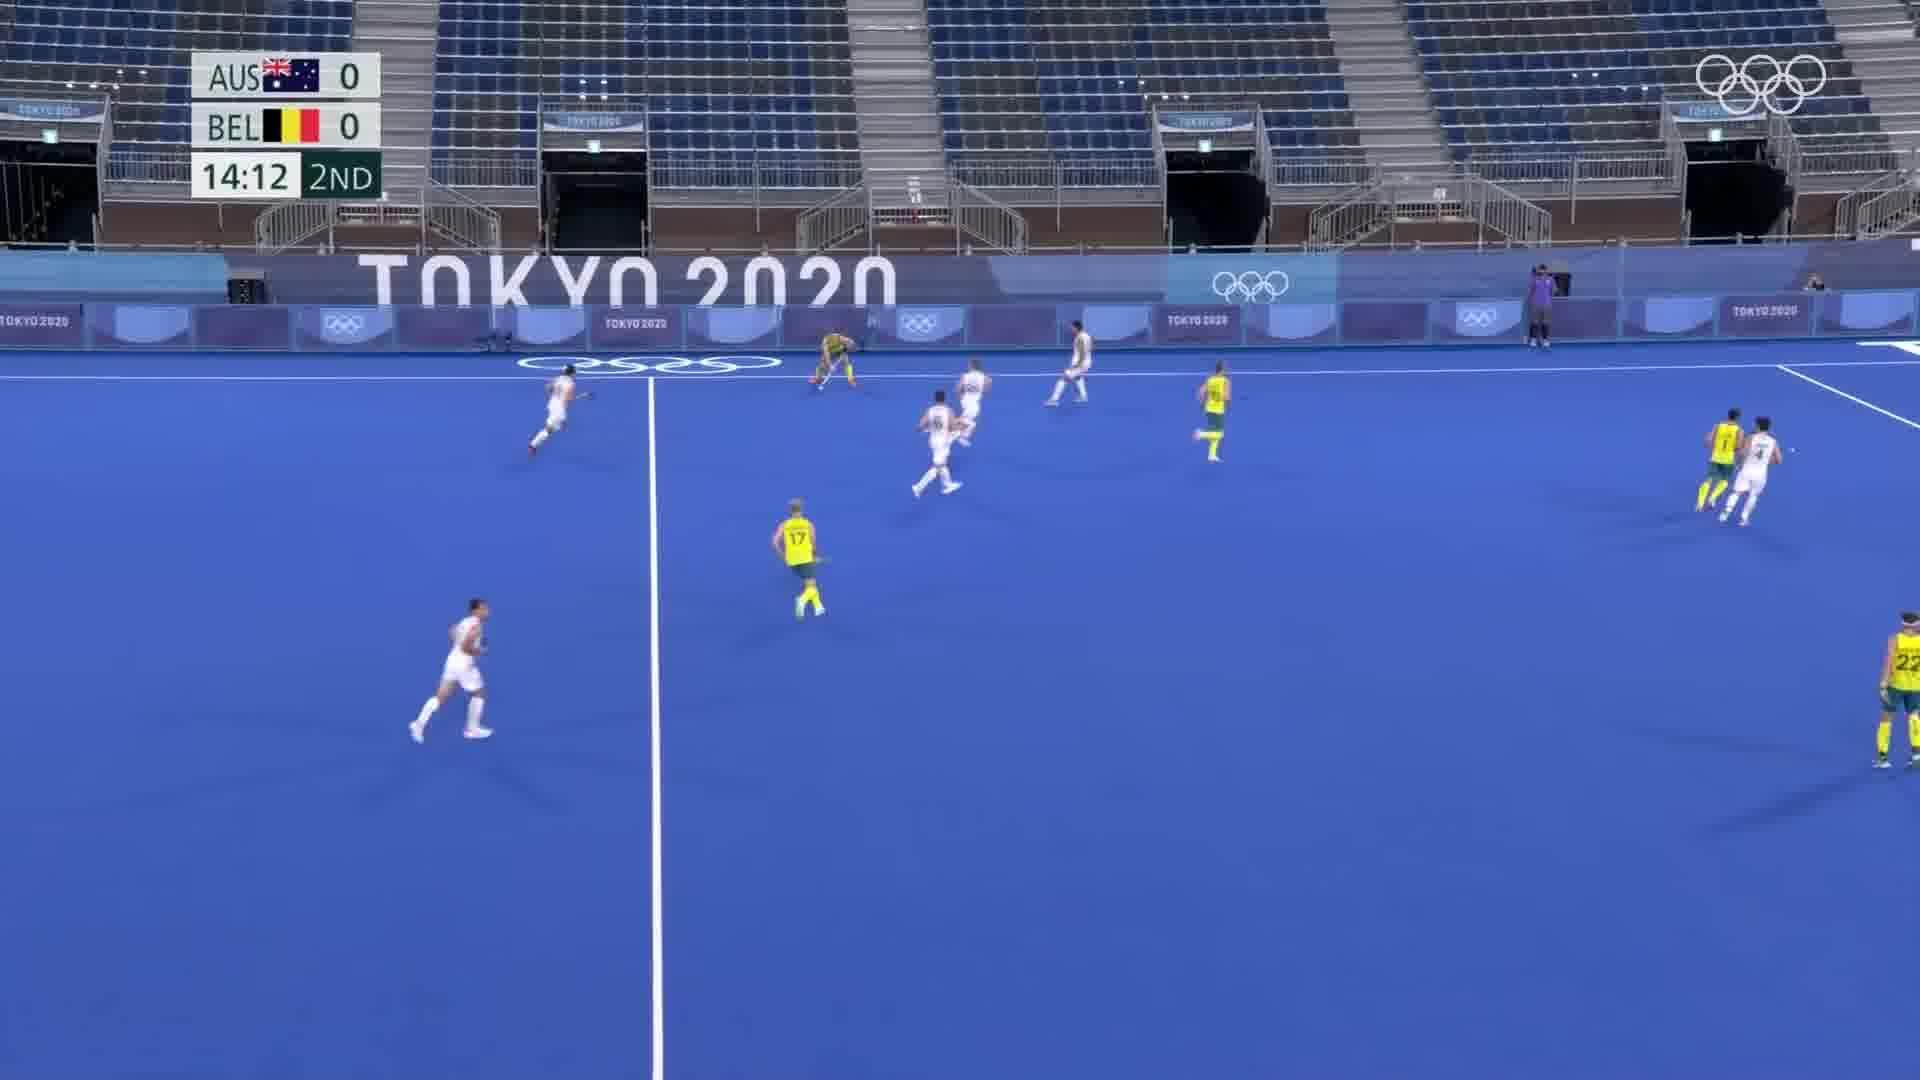ball: (815, 381, 829, 393)
